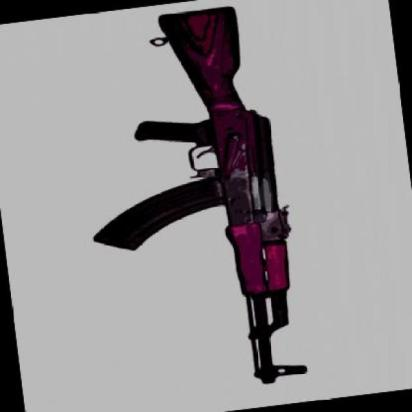Gun: (58, 0, 331, 396)
